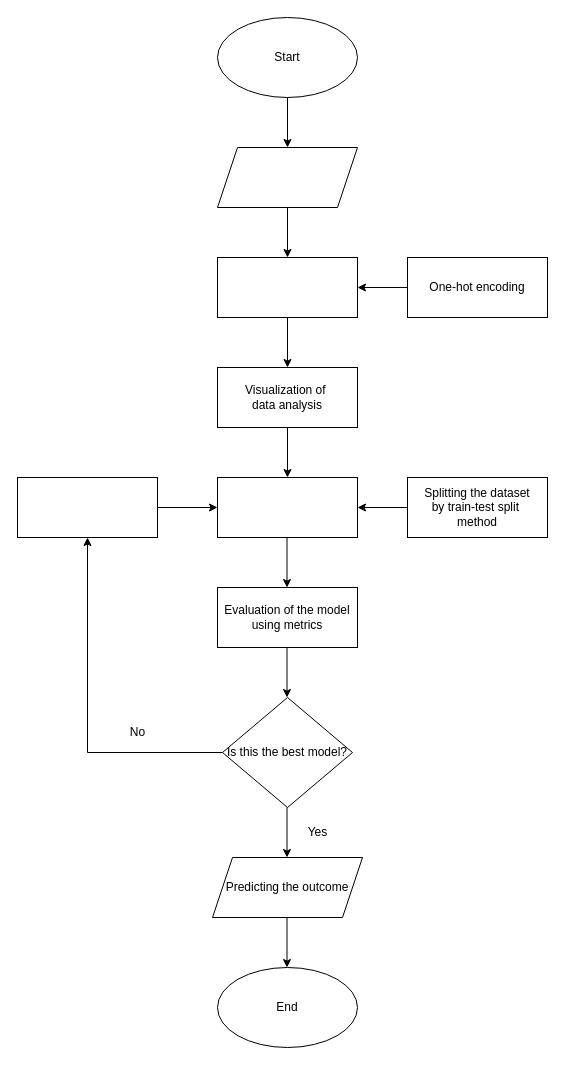
Image size: 565x1065. Some labels were removed from this diagram. Each missing label, with the box of its shape:
choosing the best suitable classifer: (16, 476, 158, 538)
Data Preprocessing: (216, 256, 358, 318)
Importing the dataset: (216, 146, 358, 208)
Training and testing the model: (216, 476, 358, 538)
